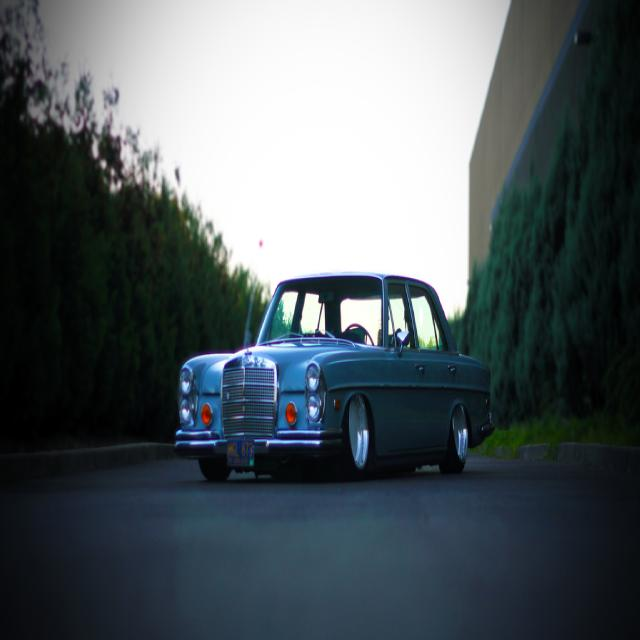car: (173, 267, 495, 477)
